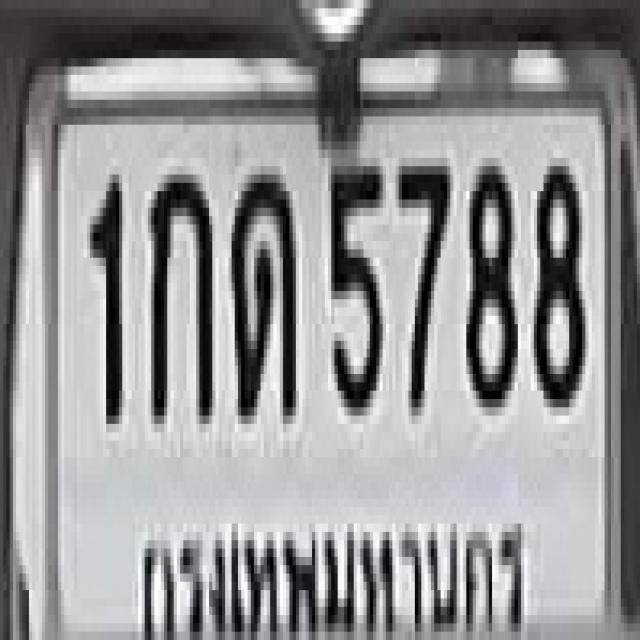1: (87, 166, 119, 416)
5: (328, 158, 380, 407)
7: (396, 158, 447, 407)
8: (463, 158, 515, 399), (529, 158, 581, 399)
A01: (148, 166, 209, 416)
A20: (228, 170, 293, 412)
BKK: (133, 500, 535, 640)
